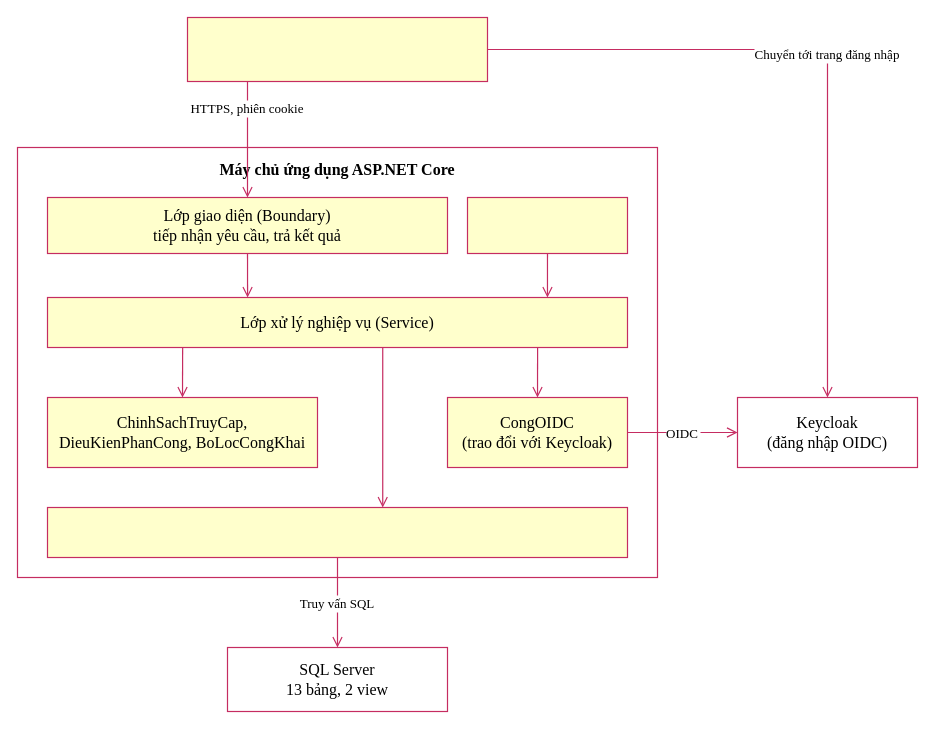
This 936x730 diagram has some shape labels left out. Each missing label, with the centre of its shape:
"KhoNghiepVu và GiaoDich (đọc, ghi dữ liệu qua EF Core)" belongs at point 337,532.
"Trình duyệt của người dùng Giao diện React" belongs at point 337,49.
"Tác vụ nền chuyển mốc thời gian" belongs at point 547,225.
